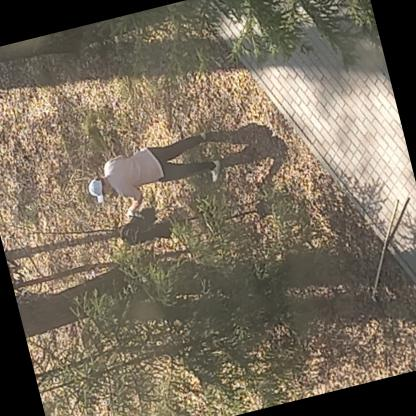Human Body: (81, 124, 226, 226)
